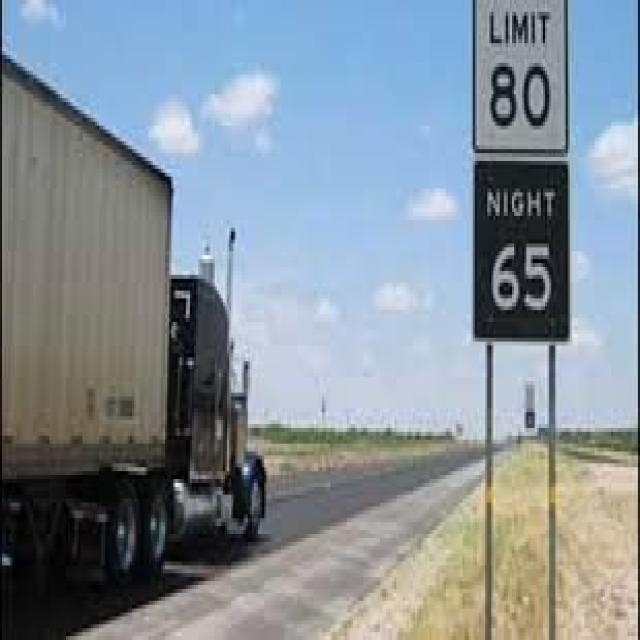speedLimit80: (474, 0, 567, 157)
